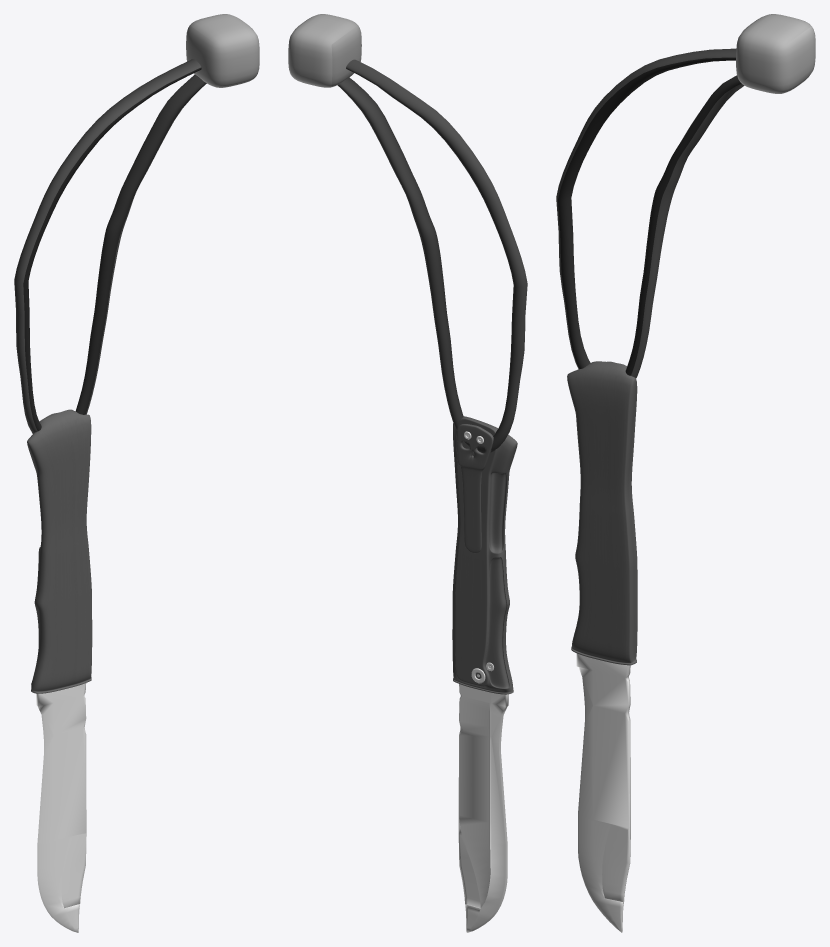
Rendered from knifePendant.glb.
3 renders of one model, left to right at view 1: azimuth 30°, elevation 25°; view 2: azimuth 150°, elevation 25°; view 3: azimuth 330°, elevation 25°, orthographic. The views are drawn at different scales.
Parts seen in each view (by area): view 1: teeth.001; view 2: teeth.001; view 3: teeth.001.
Boxes of the visible parts, left/top/right/bottom form: teeth.001: left=14, top=14, right=259, bottom=932; teeth.001: left=288, top=14, right=527, bottom=932; teeth.001: left=556, top=14, right=815, bottom=932.
Size of the model in its own units: 0.1298 by 0.4696 by 0.0346.
Materials: 3 (2 with a texture image).
